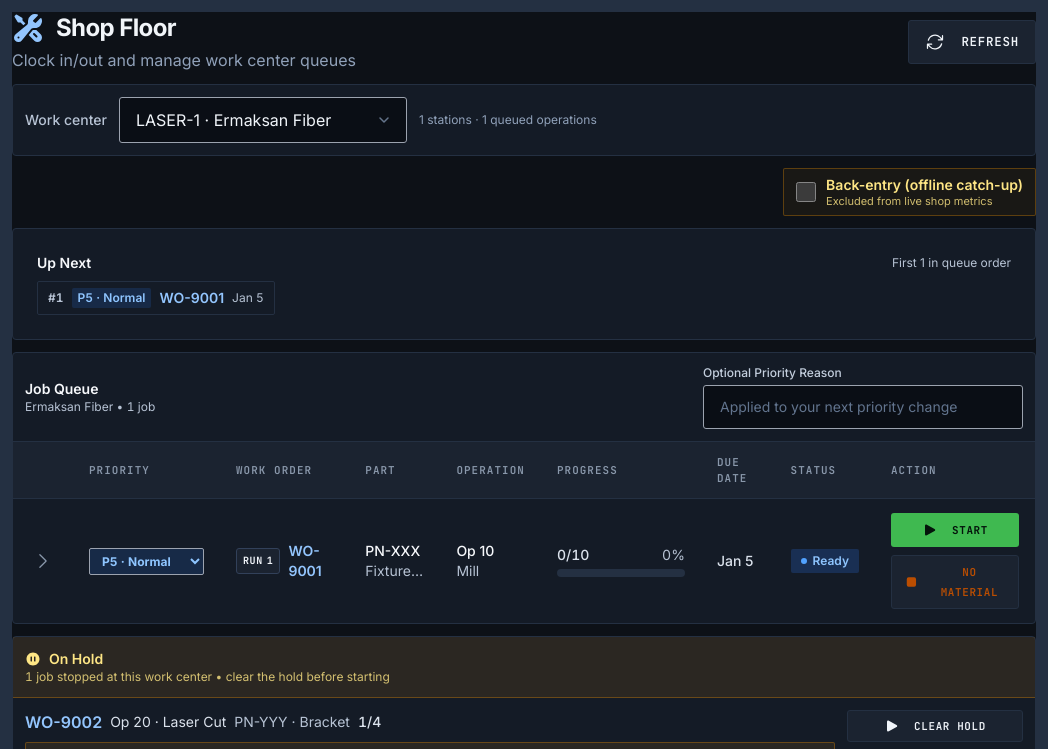
Test: ShopFloor Clear Hold › WARNS, not succeeds, when the resume left the job off the board
Click the button with aria-label "clear hold on WO-9002" at [935, 726], box [847,710,1023,742]
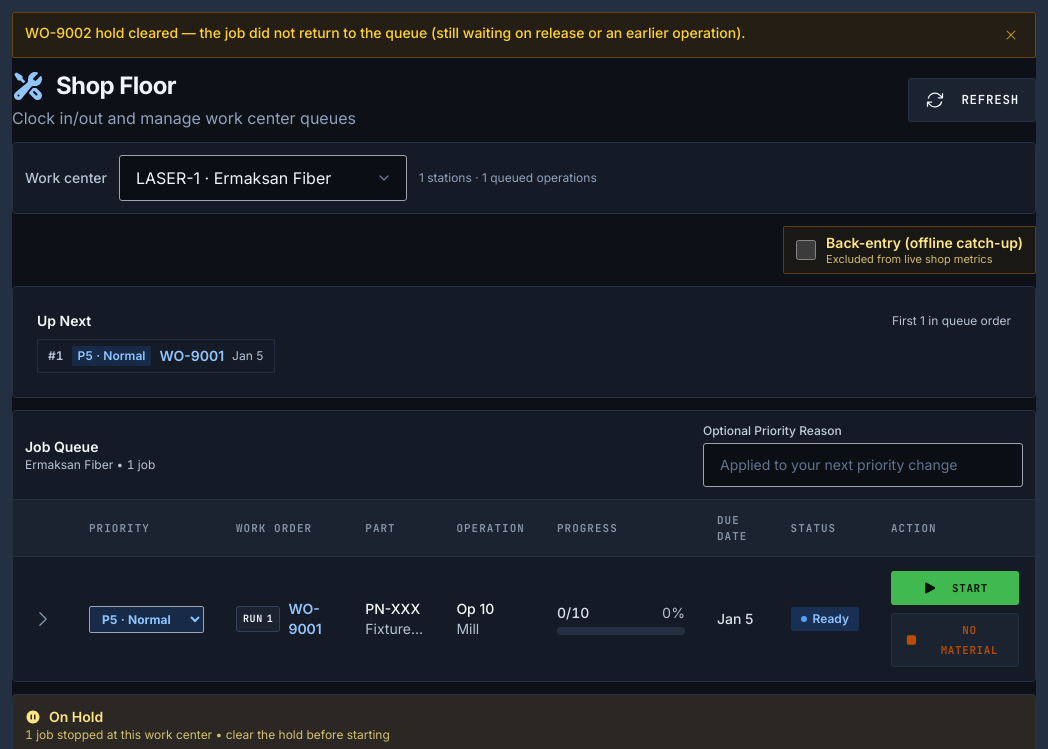
Expected: the message shows "did not return to the queue", [25,24,746,41]
